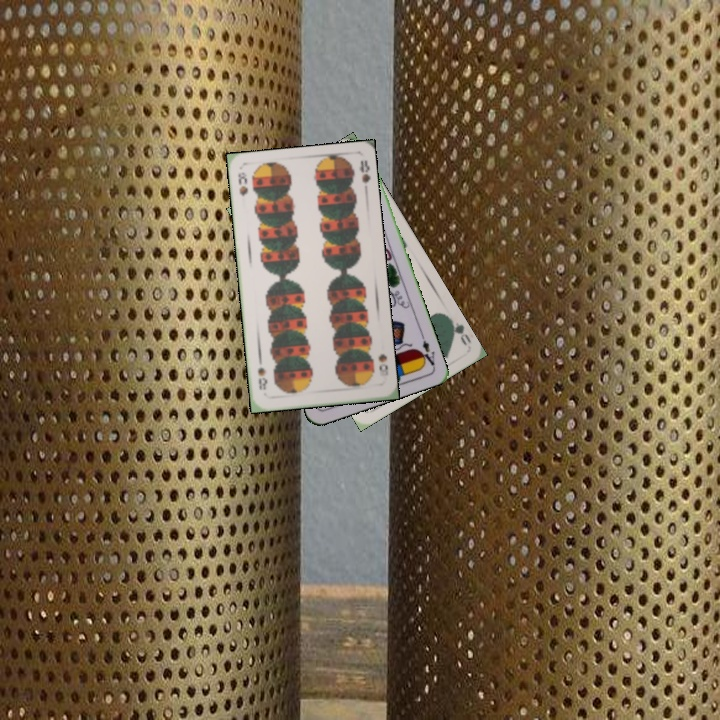EA: (415, 330, 437, 369)
GO: (444, 313, 474, 348)
S8: (234, 168, 250, 199), (374, 350, 390, 373)
